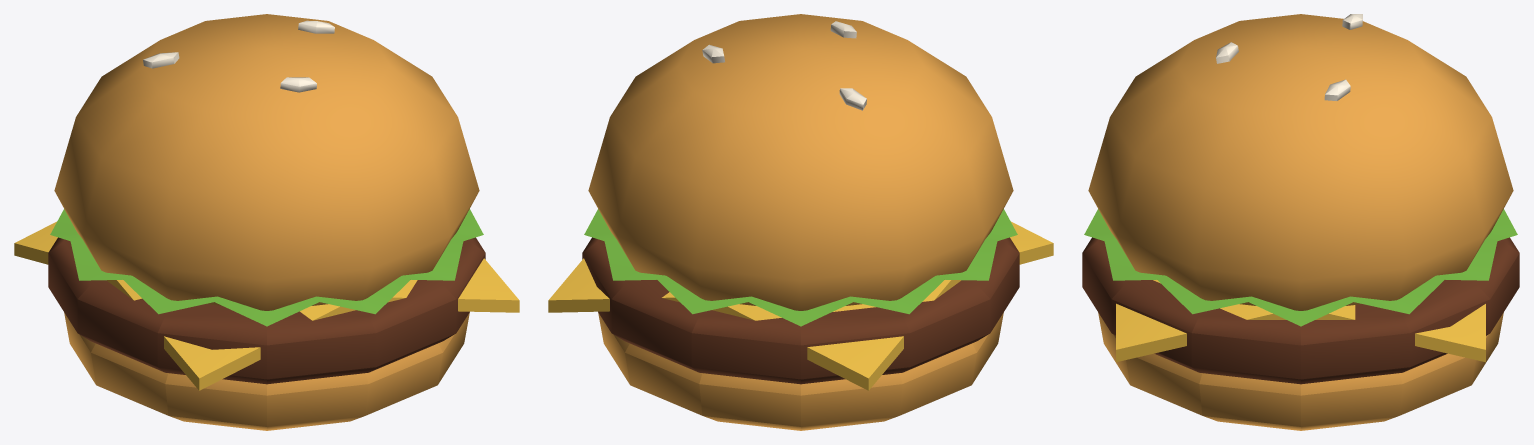
The model's file is Hamburguesa.fbx.
3 renders of one model, left to right at view 1: azimuth 30°, elevation 25°; view 2: azimuth 150°, elevation 25°; view 3: azimuth 270°, elevation 25°, orthographic.
Visible parts, largest first — view 1: Hamburguesa; view 2: Hamburguesa; view 3: Hamburguesa.
Part boxes in pixels (left/top/right/bottom): Hamburguesa: left=14, top=14, right=519, bottom=430; Hamburguesa: left=548, top=14, right=1053, bottom=430; Hamburguesa: left=1082, top=14, right=1519, bottom=430.
Bounding box in the file's own units: 0.7 × 0.55 × 0.7.
1 material, 1 textured.
